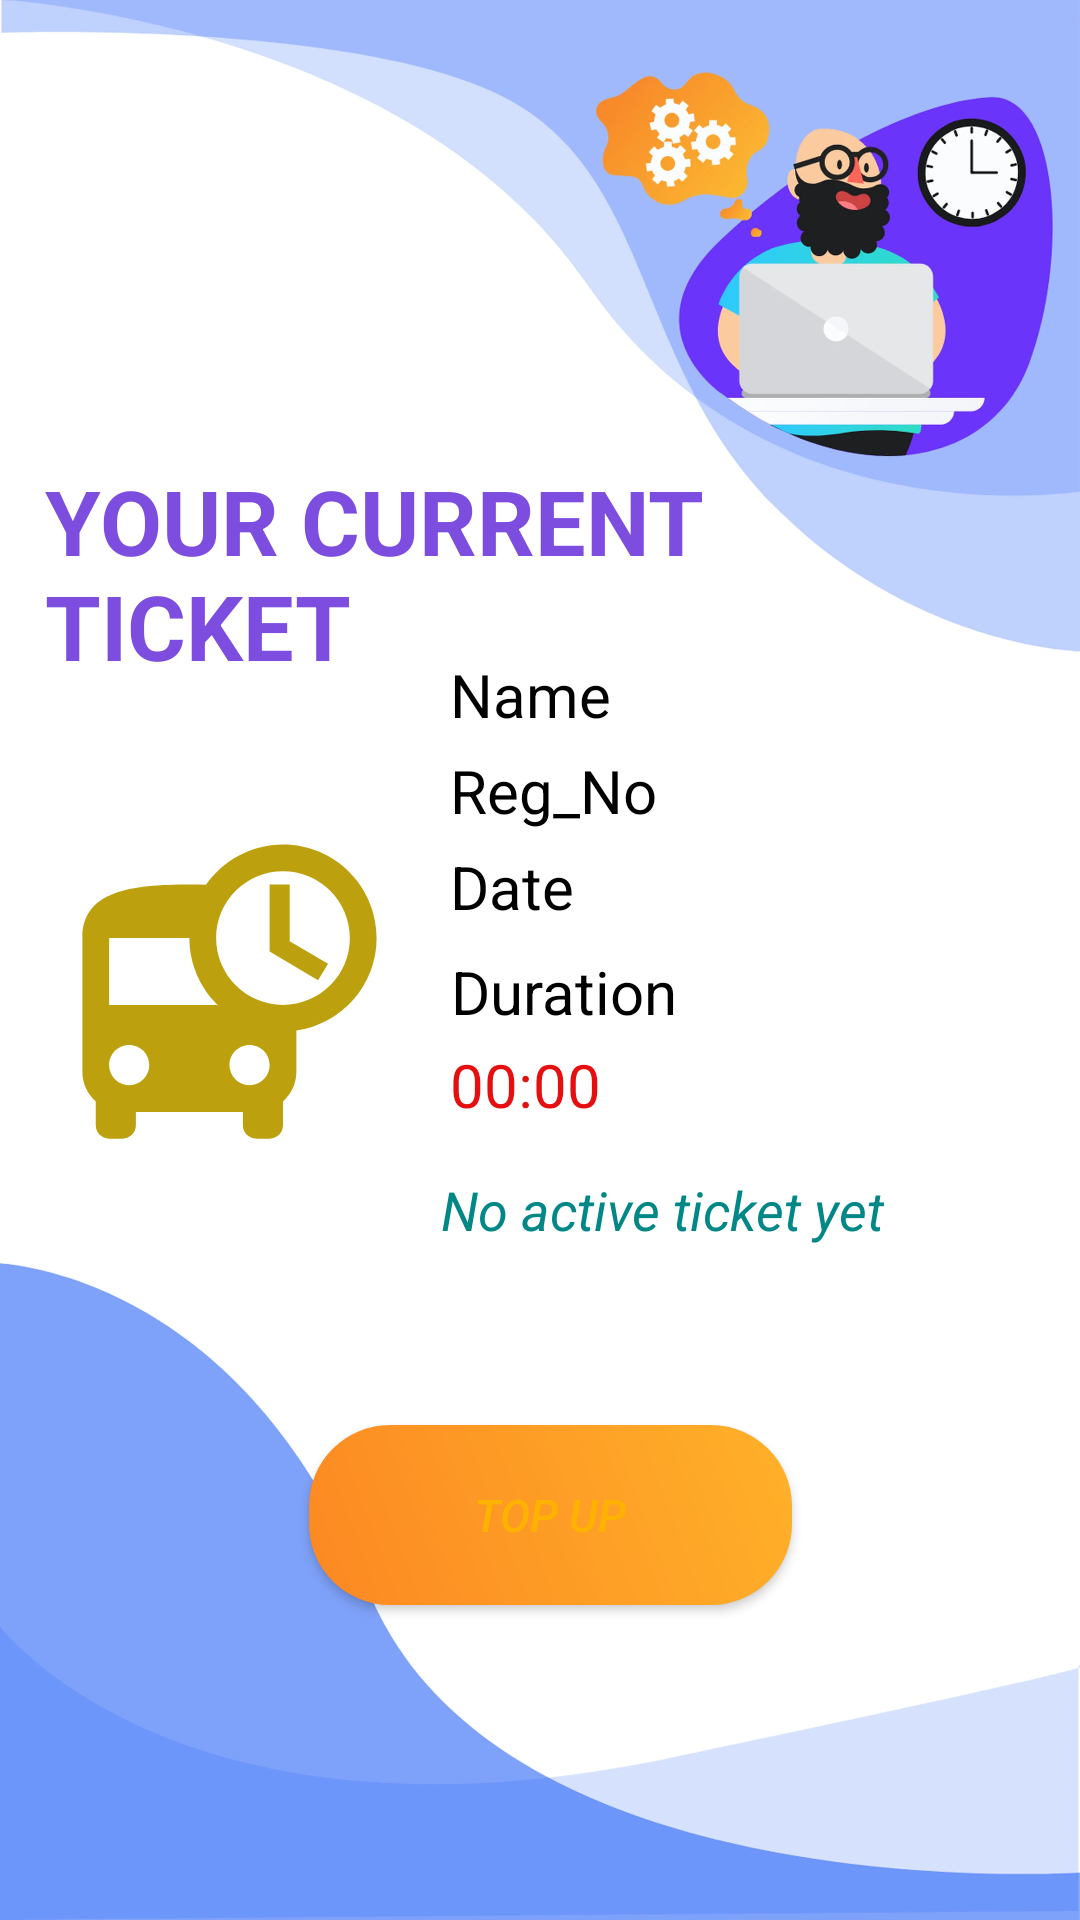

Icons on this 1080*1920 Android screen, each with its box as (x1, y1, x2, y2):
bookingpic: (82, 844, 377, 1139)
